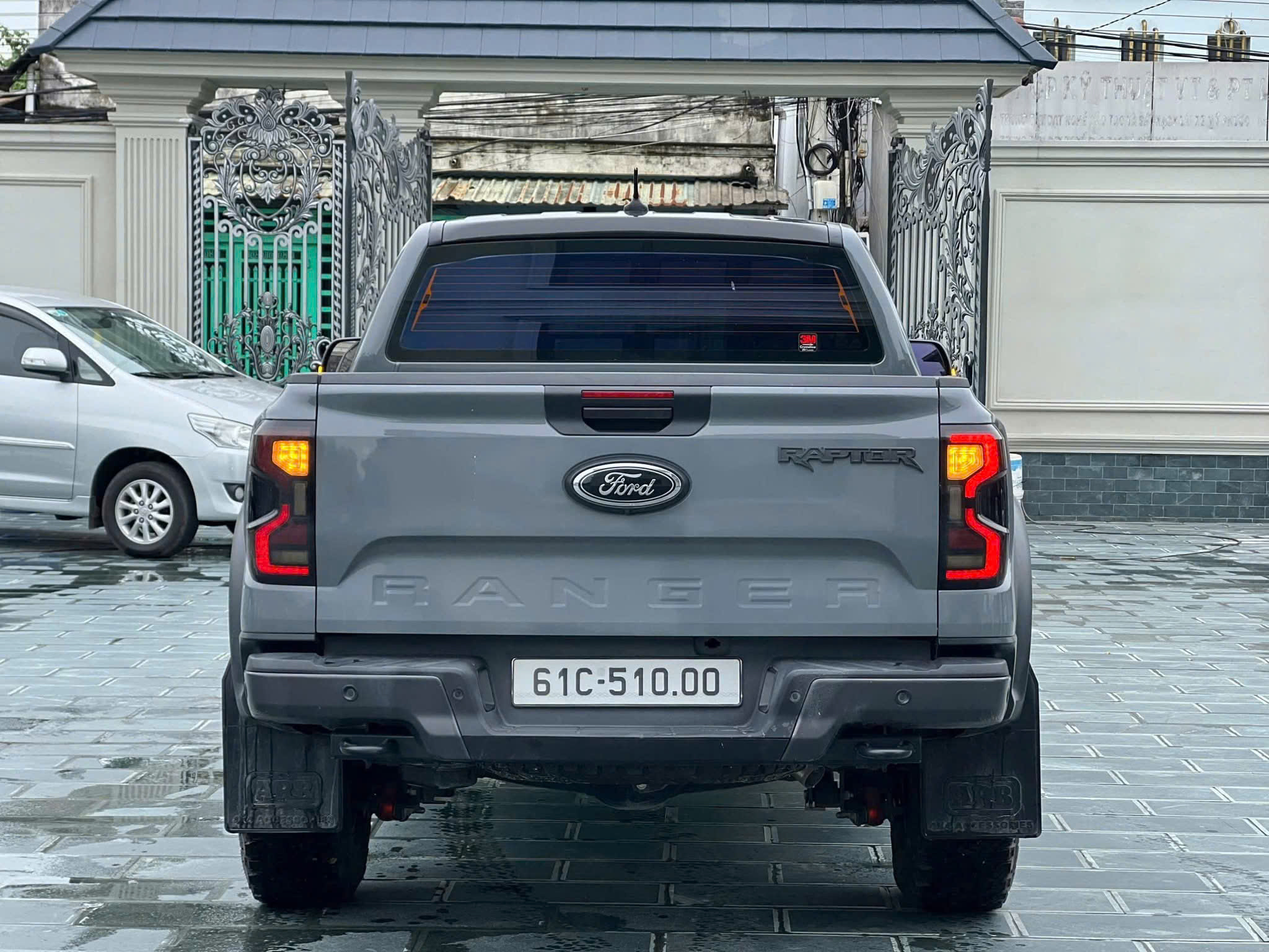Bien-so: (516, 655, 748, 700)
